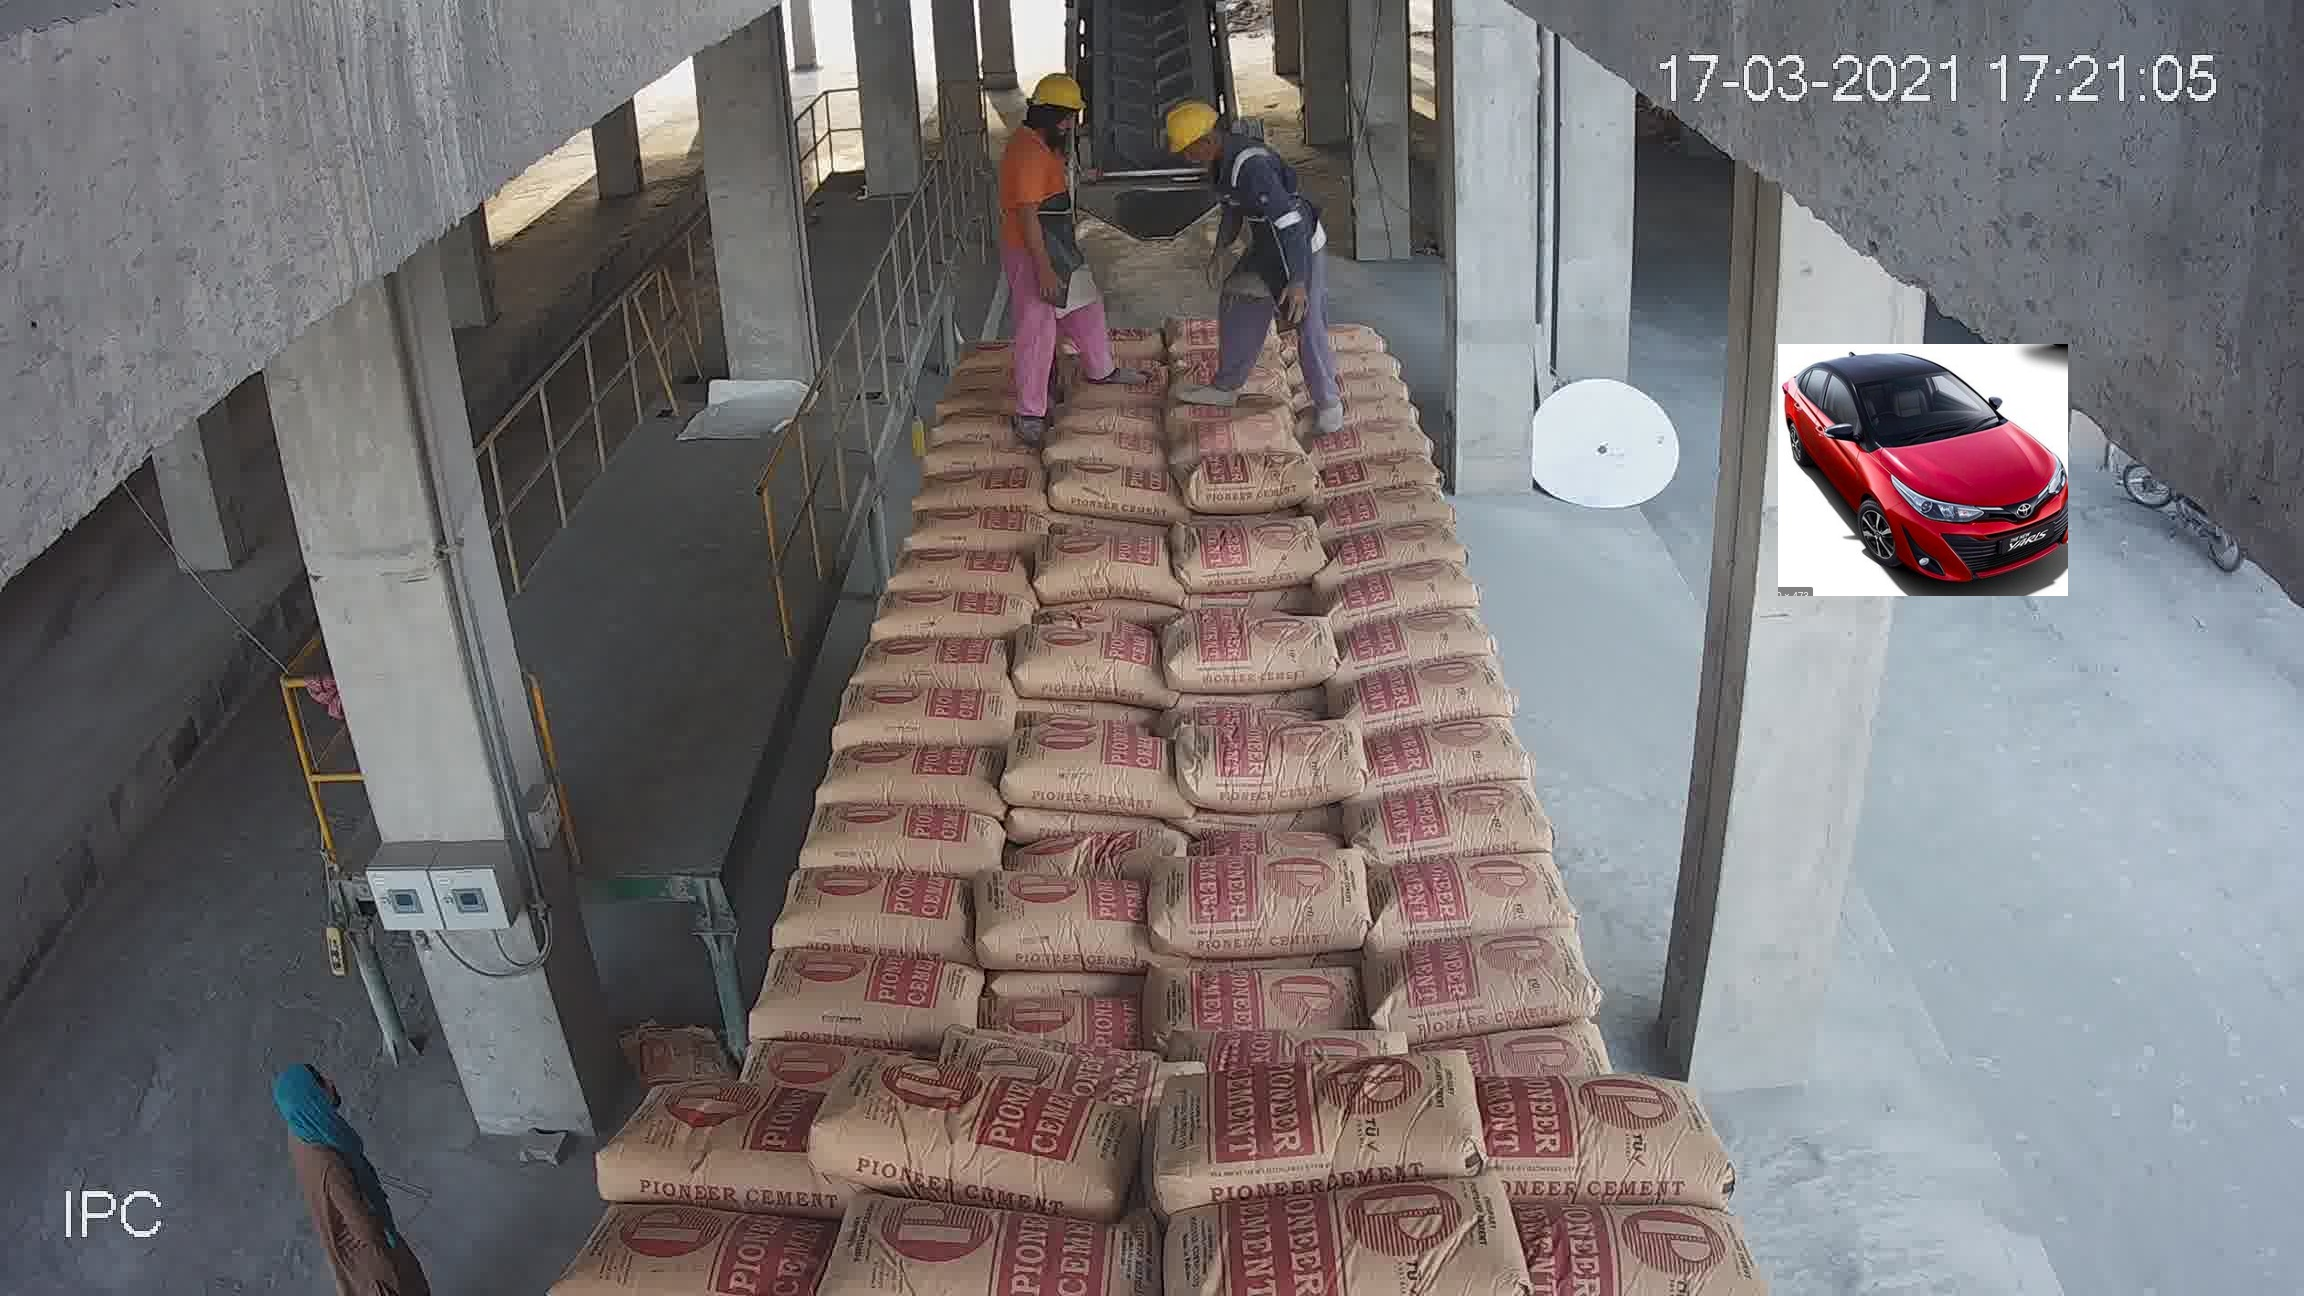bag: (813, 573, 1025, 695)
bag_h: (1138, 1040, 1521, 1201), (1464, 1048, 1760, 1207), (798, 1060, 1161, 1190), (1139, 1174, 1537, 1293), (1133, 932, 1438, 1084), (897, 923, 1139, 1082), (630, 949, 877, 1097), (805, 1188, 1180, 1280), (1124, 715, 1396, 839), (1435, 954, 1722, 1062), (880, 850, 1179, 953), (889, 745, 1161, 858), (581, 1079, 836, 1196), (1146, 842, 1446, 937), (1484, 1188, 1790, 1282), (1396, 851, 1650, 957), (1385, 750, 1595, 870), (552, 1214, 858, 1291), (661, 850, 885, 954), (715, 777, 896, 870), (1016, 663, 1184, 742), (1364, 589, 1510, 665), (1017, 628, 1179, 688), (1367, 715, 1541, 771), (1032, 584, 1184, 642), (1356, 657, 1521, 711), (1351, 548, 1465, 620), (1036, 552, 1173, 581)
belt: (1013, 13, 1309, 521)
